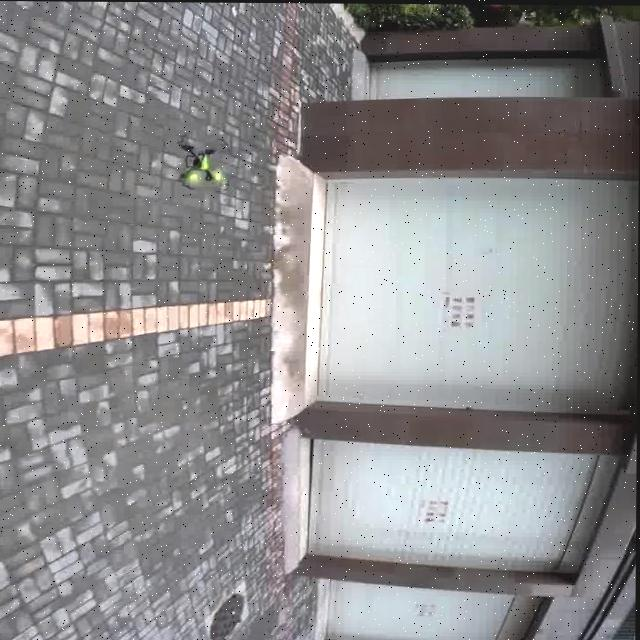drone: (170, 122, 236, 192)
